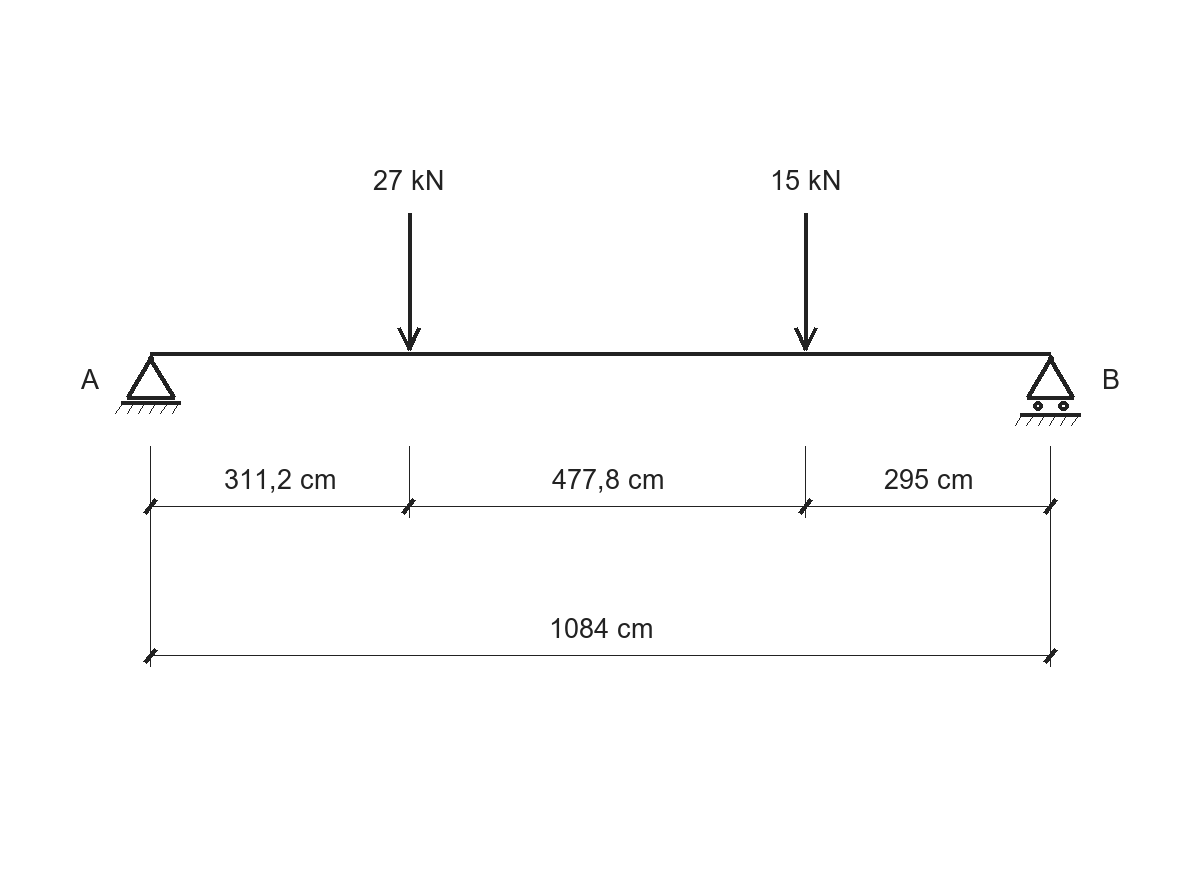pin_support: (115, 355, 181, 414)
point_load: (397, 213, 421, 351), (794, 213, 818, 351)
roller_support: (1015, 355, 1081, 426)
